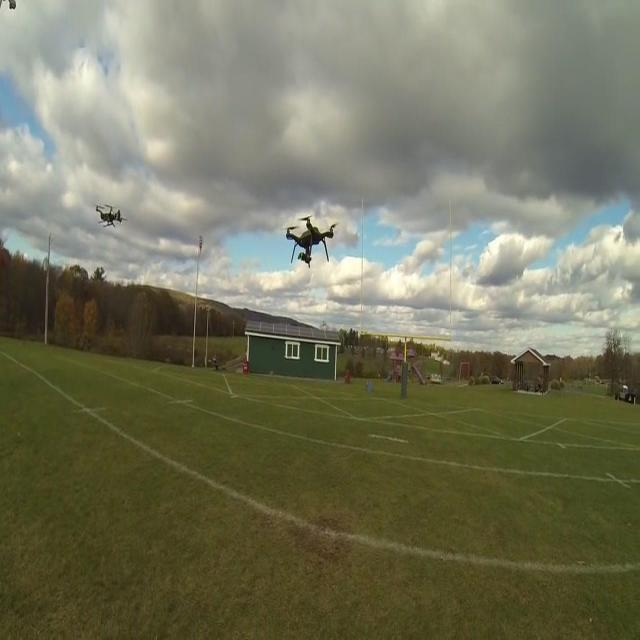UAV: (281, 215, 339, 269), (94, 205, 128, 228)
